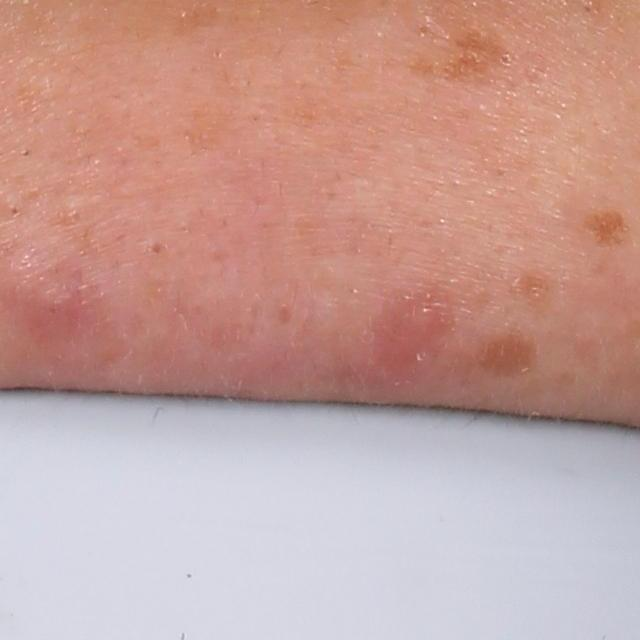comedo: (141, 234, 167, 260)
